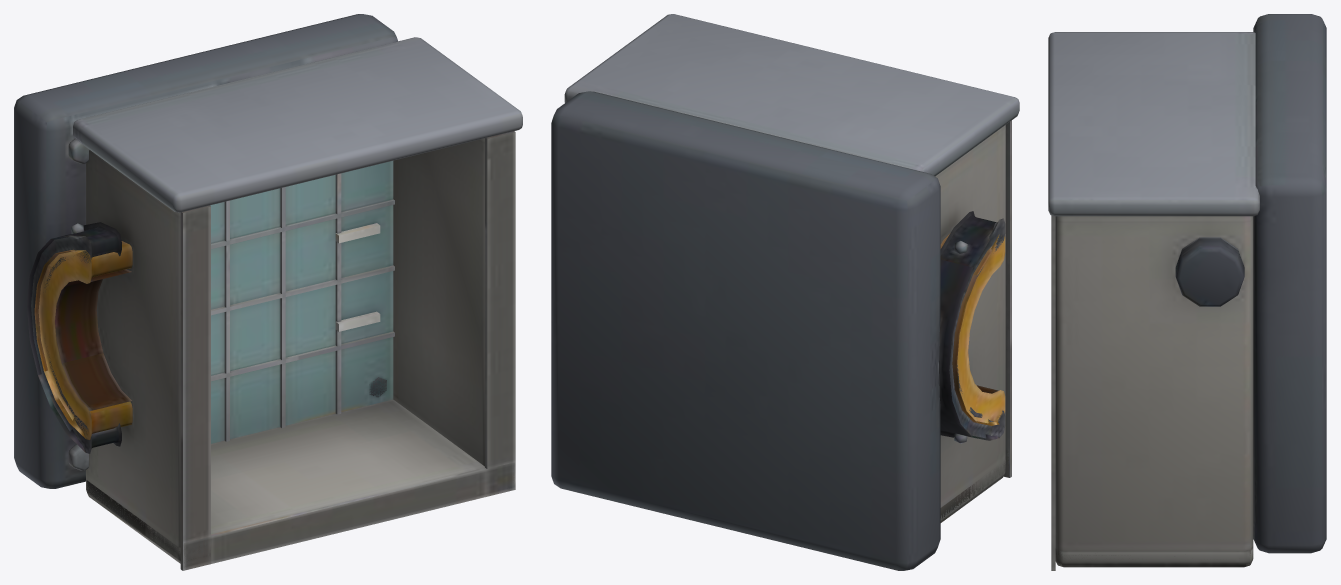
File: pipe_basin.glb
3 renders of one model, left to right at view 1: azimuth 30°, elevation 25°; view 2: azimuth 150°, elevation 25°; view 3: azimuth 270°, elevation 25°, orthographic.
Visible parts, largest first — view 1: pipe_basin; view 2: pipe_basin; view 3: pipe_basin.
Boxes of the visible parts, x1=… form: pipe_basin: x1=14, y1=14, x2=522, y2=570; pipe_basin: x1=551, y1=14, x2=1019, y2=570; pipe_basin: x1=1048, y1=14, x2=1326, y2=570.
Bounding box in the file's own units: 2.14 × 1.96 × 1.29.
Materials: 1 (1 with a texture image).
